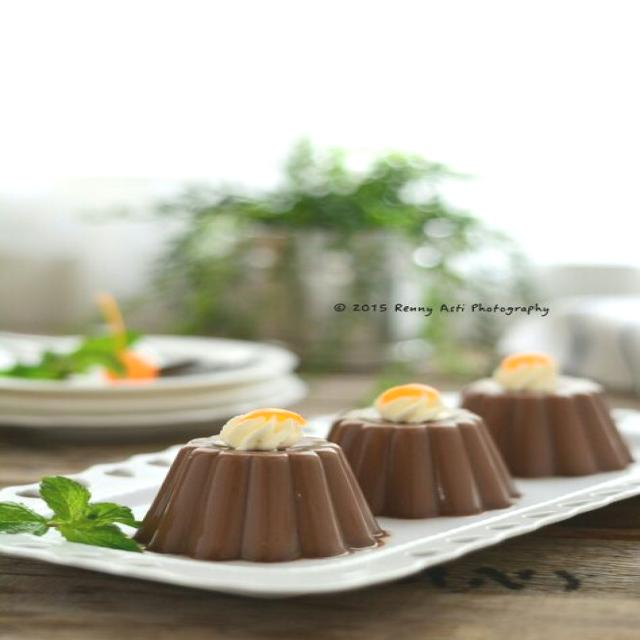puding: (134, 410, 390, 565), (328, 389, 520, 521)
